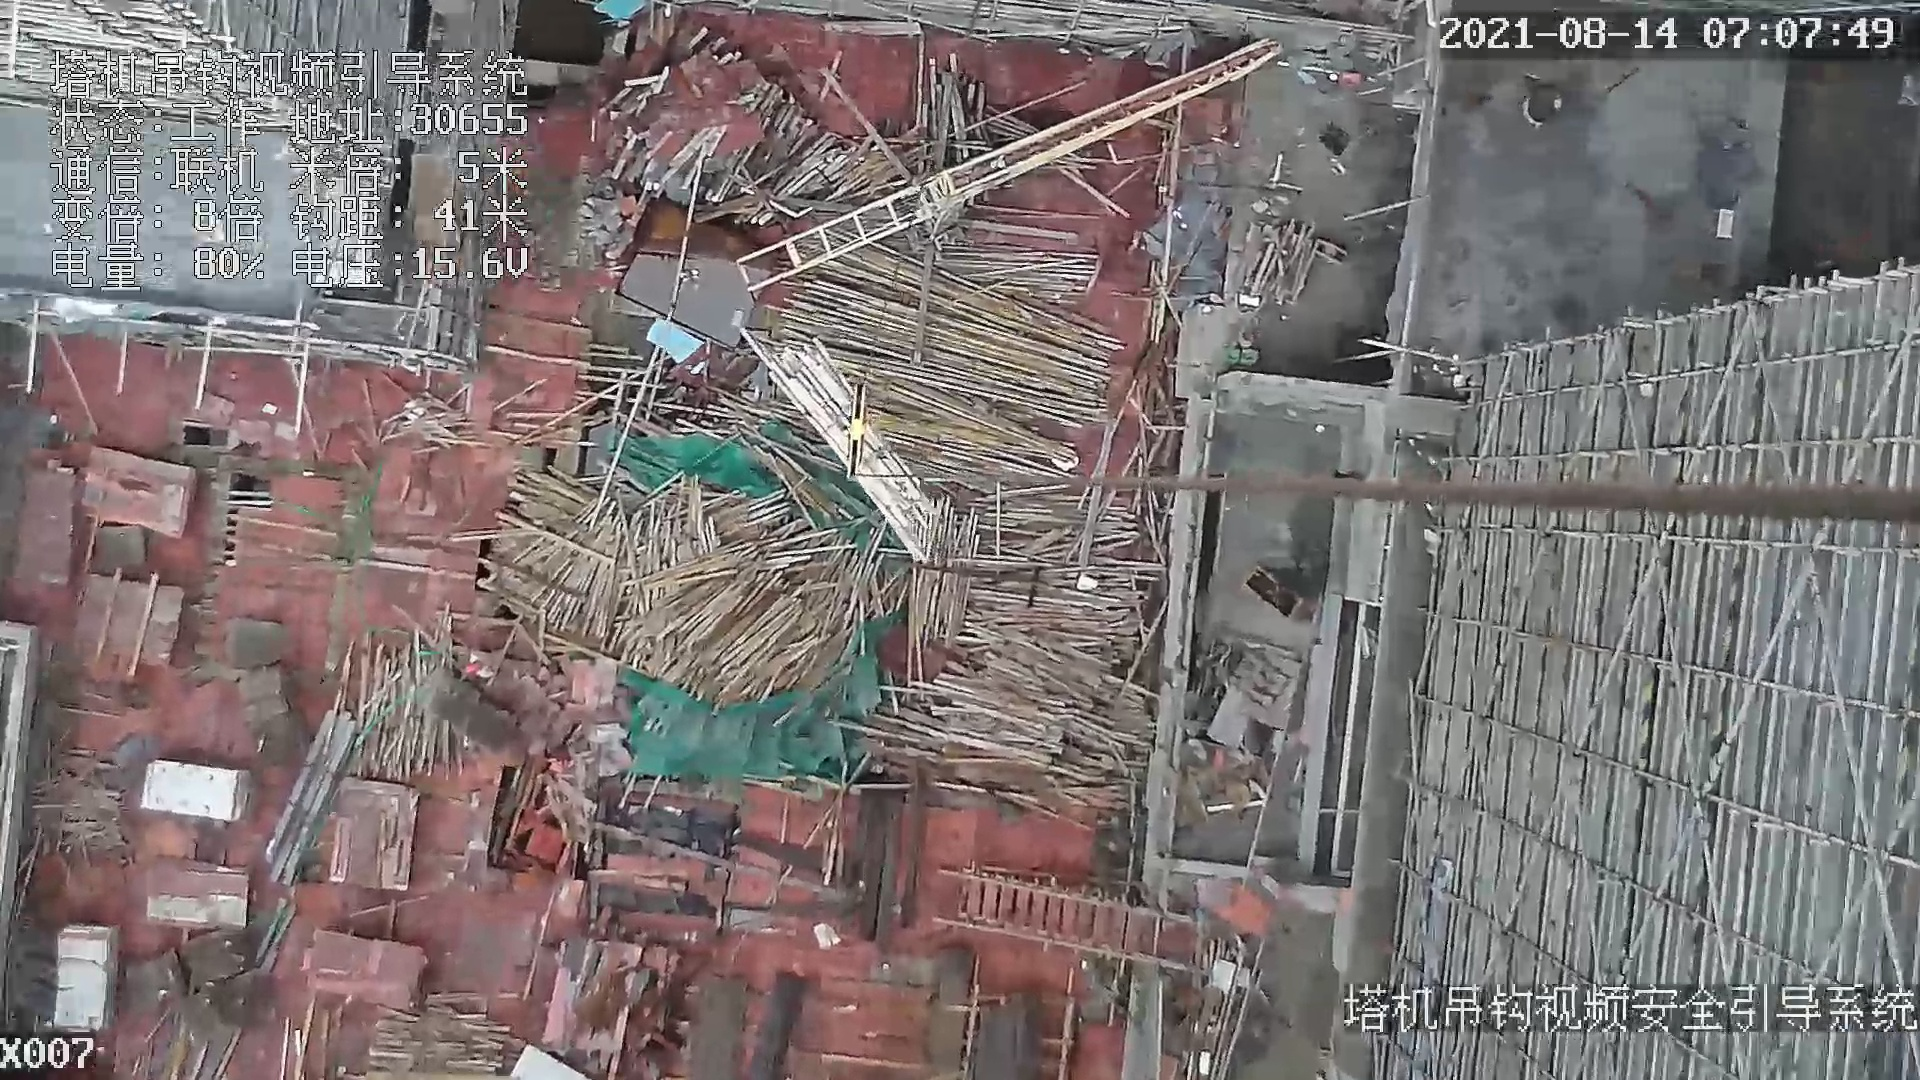hook: (840, 382, 876, 485)
